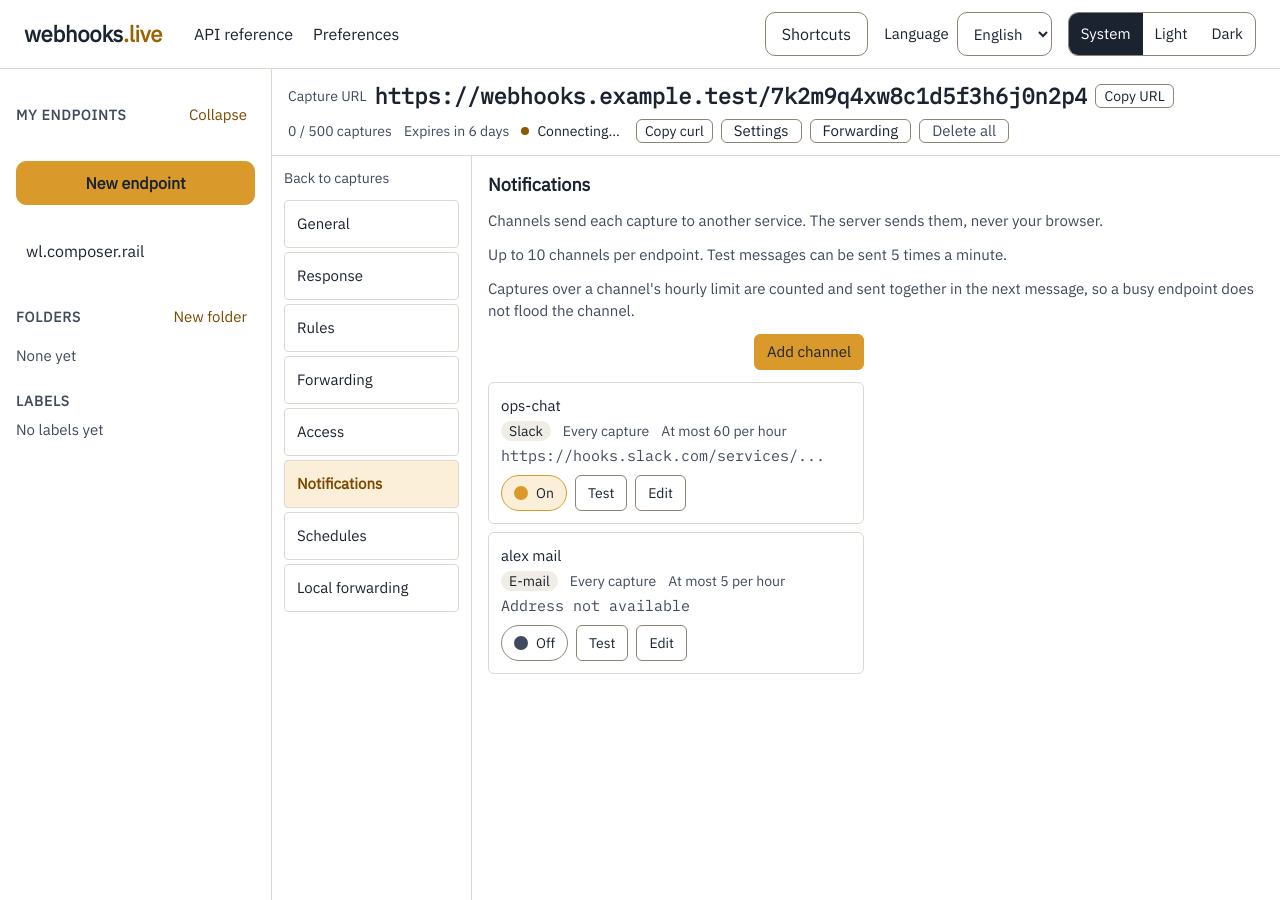
it: notifications section › shows the status and error of a failed test inline
Click the button with aria-label "Send a test to ops-chat".
click(601, 493)  # box [575,475,627,511]
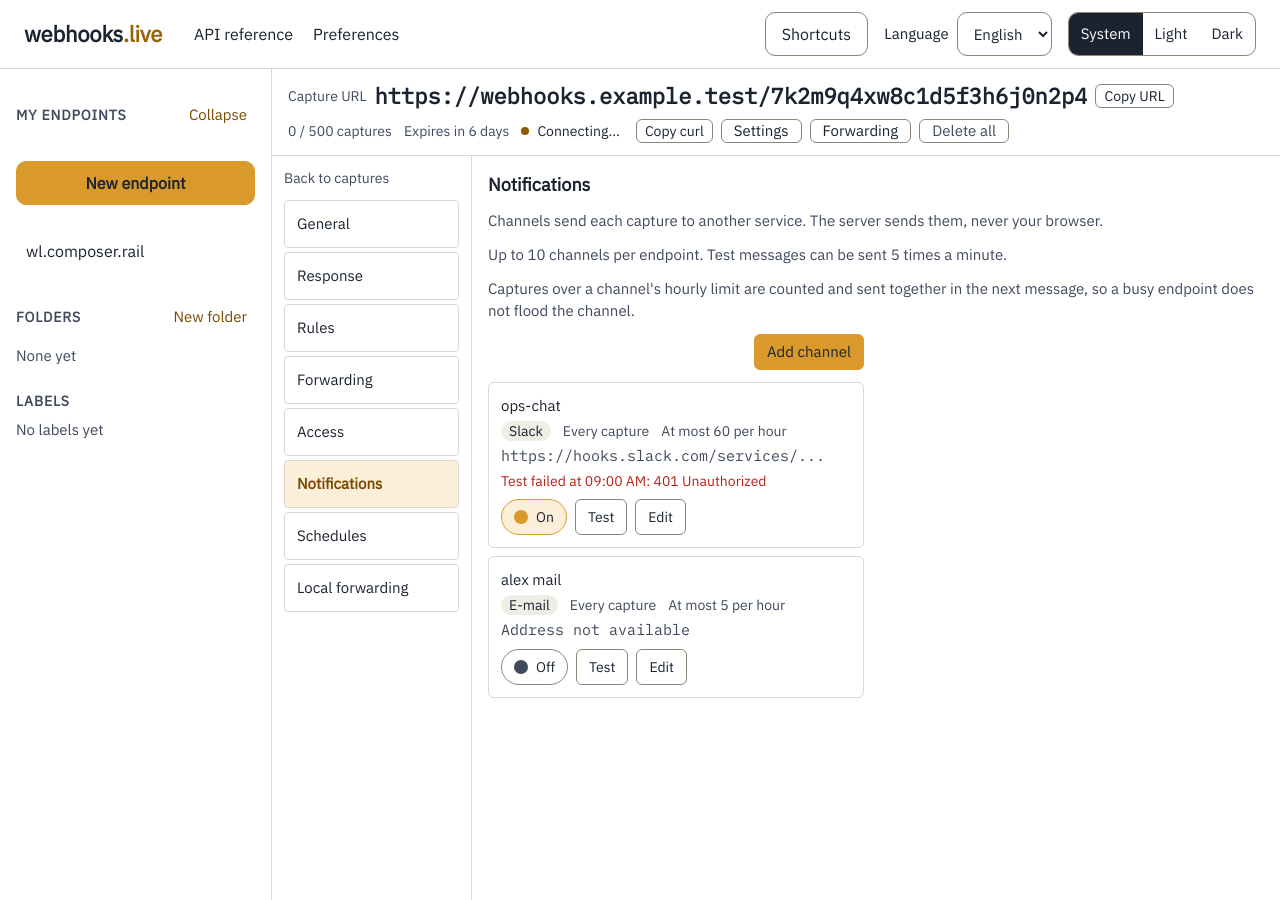
Result: the text "Test failed at 09:00 AM: 401 Unauthorized" is shown at [501,472,766,490]
